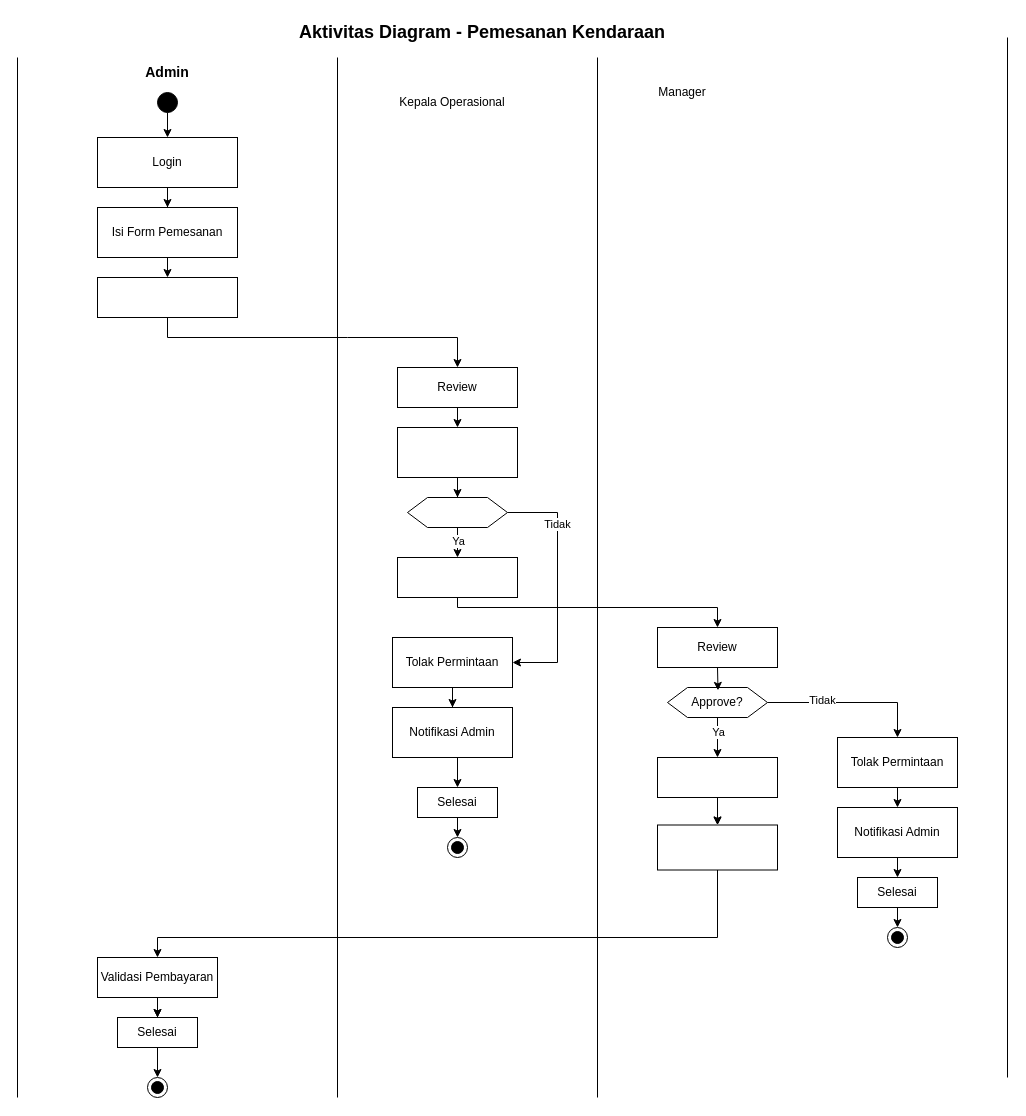
Some shapes in this 1026 by 1116 pixel diagram are drawn without their labels. Each missing label, with the box of its shape:
Apakah Ada?: (406, 496, 508, 528)
Buat Cek: (656, 756, 778, 798)
Cek Ketersediaan Kendaraan: (396, 426, 518, 478)
Stempel: (656, 824, 778, 870)
Submit Permintaan: (96, 276, 238, 318)
Tanda Tangan: (396, 556, 518, 598)
